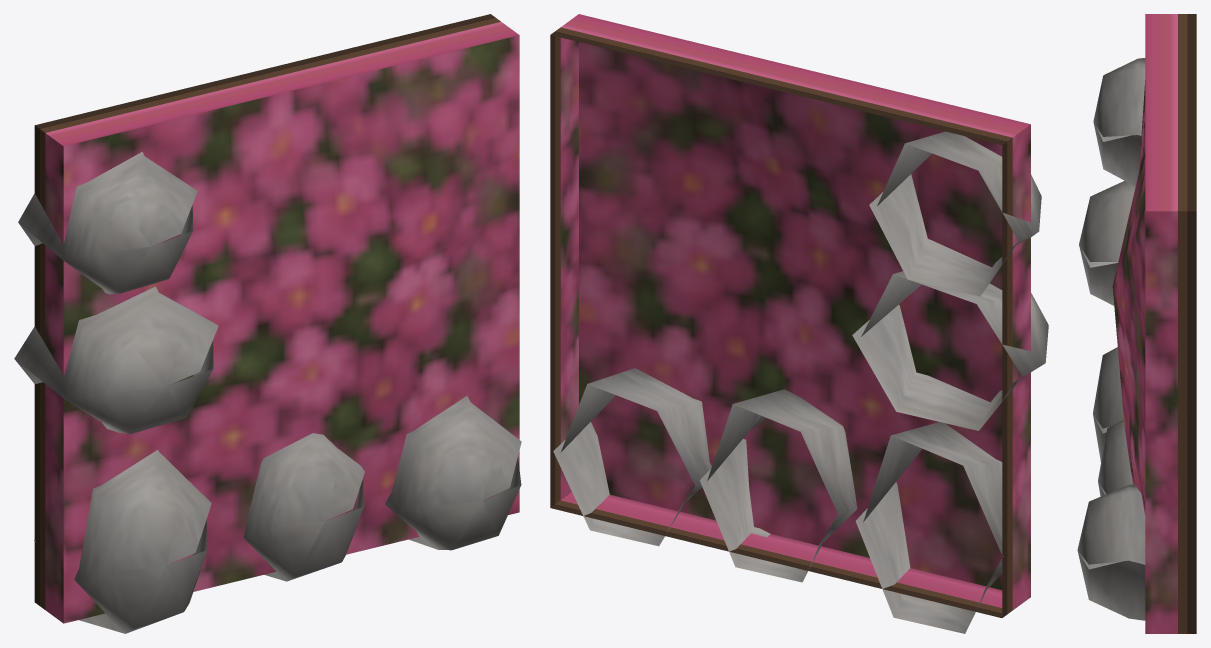
File: keep-bed-magenta-stones-nw.obj
The picture shows the model from 3 angles, left to right: view 1: azimuth 30°, elevation 25°; view 2: azimuth 150°, elevation 25°; view 3: azimuth 270°, elevation 25°; orthographic projection. The views are drawn at different scales.
Parts seen in each view (by area): view 1: bed-magenta-stones-nw; view 2: bed-magenta-stones-nw; view 3: bed-magenta-stones-nw.
Part boxes in pixels (bbox=[...]): bed-magenta-stones-nw: bbox=[14, 14, 521, 633]; bed-magenta-stones-nw: bbox=[550, 14, 1048, 633]; bed-magenta-stones-nw: bbox=[1077, 14, 1196, 633].
Bounding box in the file's own units: 1.05 × 1.05 × 0.2552.
Materials: 1 (1 with a texture image).
